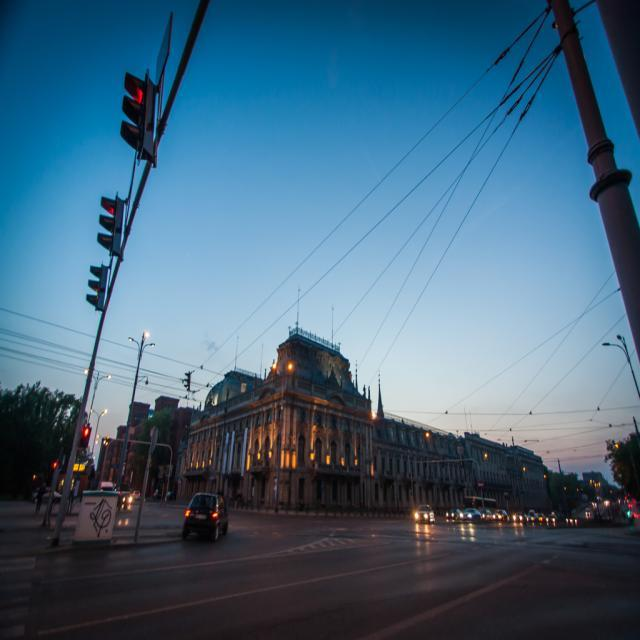traffic light: (112, 60, 165, 162), (100, 193, 129, 254), (82, 261, 114, 309)
